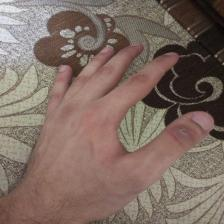five: (29, 38, 214, 214)
